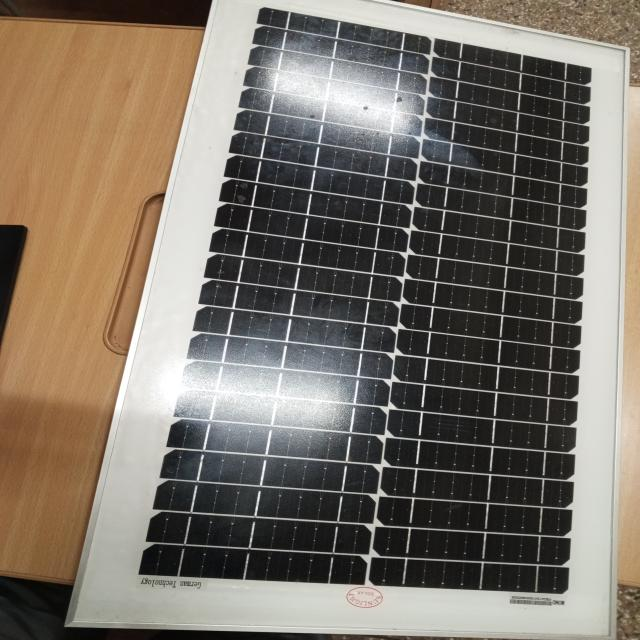Clean: (210, 5, 600, 620)
